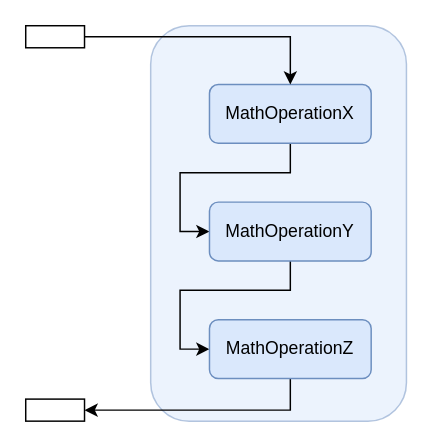
The diagram is 432 pixels wide and 448 high, and some of its shapes have lost their labels. The shapes that lost their labels are listed below. From the top down, each one's centre as x and y in pixels, then its label:
At (54,36): "Input".
At (54,409): "Output".
